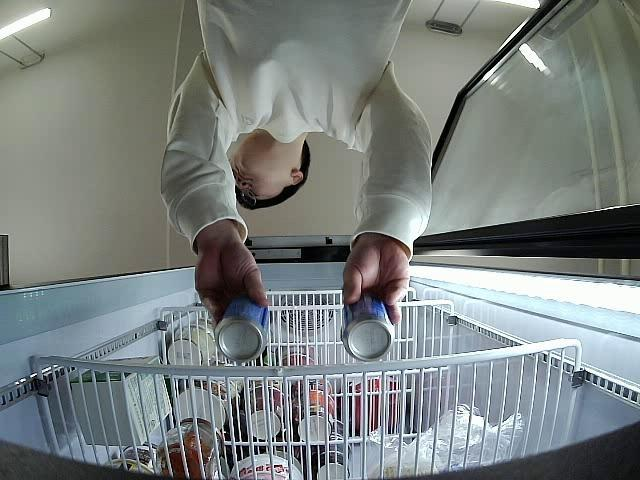15_letsbe: (214, 290, 268, 360), (340, 293, 394, 363)
